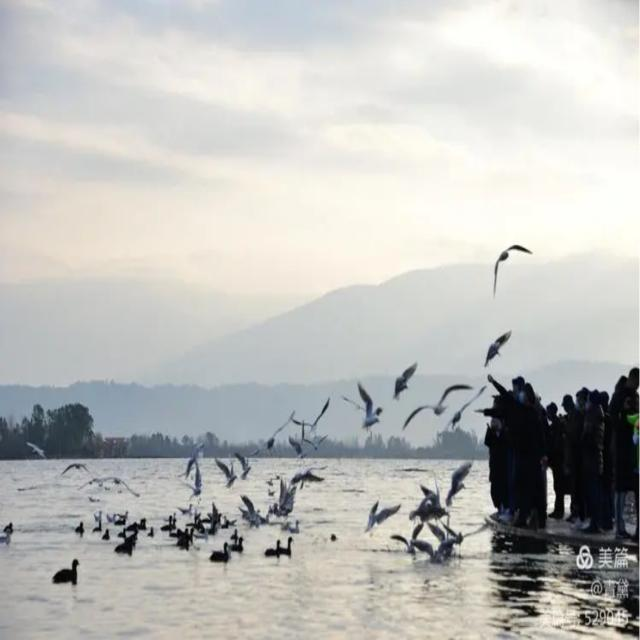bird: (488, 230, 538, 294), (342, 380, 384, 434), (476, 328, 524, 368), (361, 492, 402, 532), (404, 390, 447, 428), (412, 488, 446, 524), (446, 460, 472, 507), (297, 397, 330, 434), (44, 558, 83, 588), (392, 359, 420, 399), (452, 519, 488, 550), (109, 472, 144, 499), (180, 433, 207, 468), (242, 495, 267, 531), (298, 462, 329, 490), (262, 416, 286, 452), (76, 474, 115, 494), (274, 482, 296, 516), (444, 406, 474, 429), (218, 452, 237, 488), (57, 457, 91, 477), (211, 541, 232, 571), (261, 536, 284, 562), (237, 447, 254, 480), (399, 529, 419, 555), (23, 442, 47, 462), (426, 541, 442, 570), (186, 474, 206, 497), (66, 520, 86, 540), (161, 508, 173, 535), (283, 536, 295, 560), (234, 538, 250, 556), (288, 518, 304, 536), (88, 506, 104, 523), (178, 502, 194, 518), (310, 441, 326, 456), (108, 510, 119, 528), (90, 522, 104, 536), (100, 528, 112, 544), (228, 526, 238, 544), (146, 526, 156, 543), (116, 526, 128, 539), (119, 508, 129, 523), (173, 514, 179, 532)
